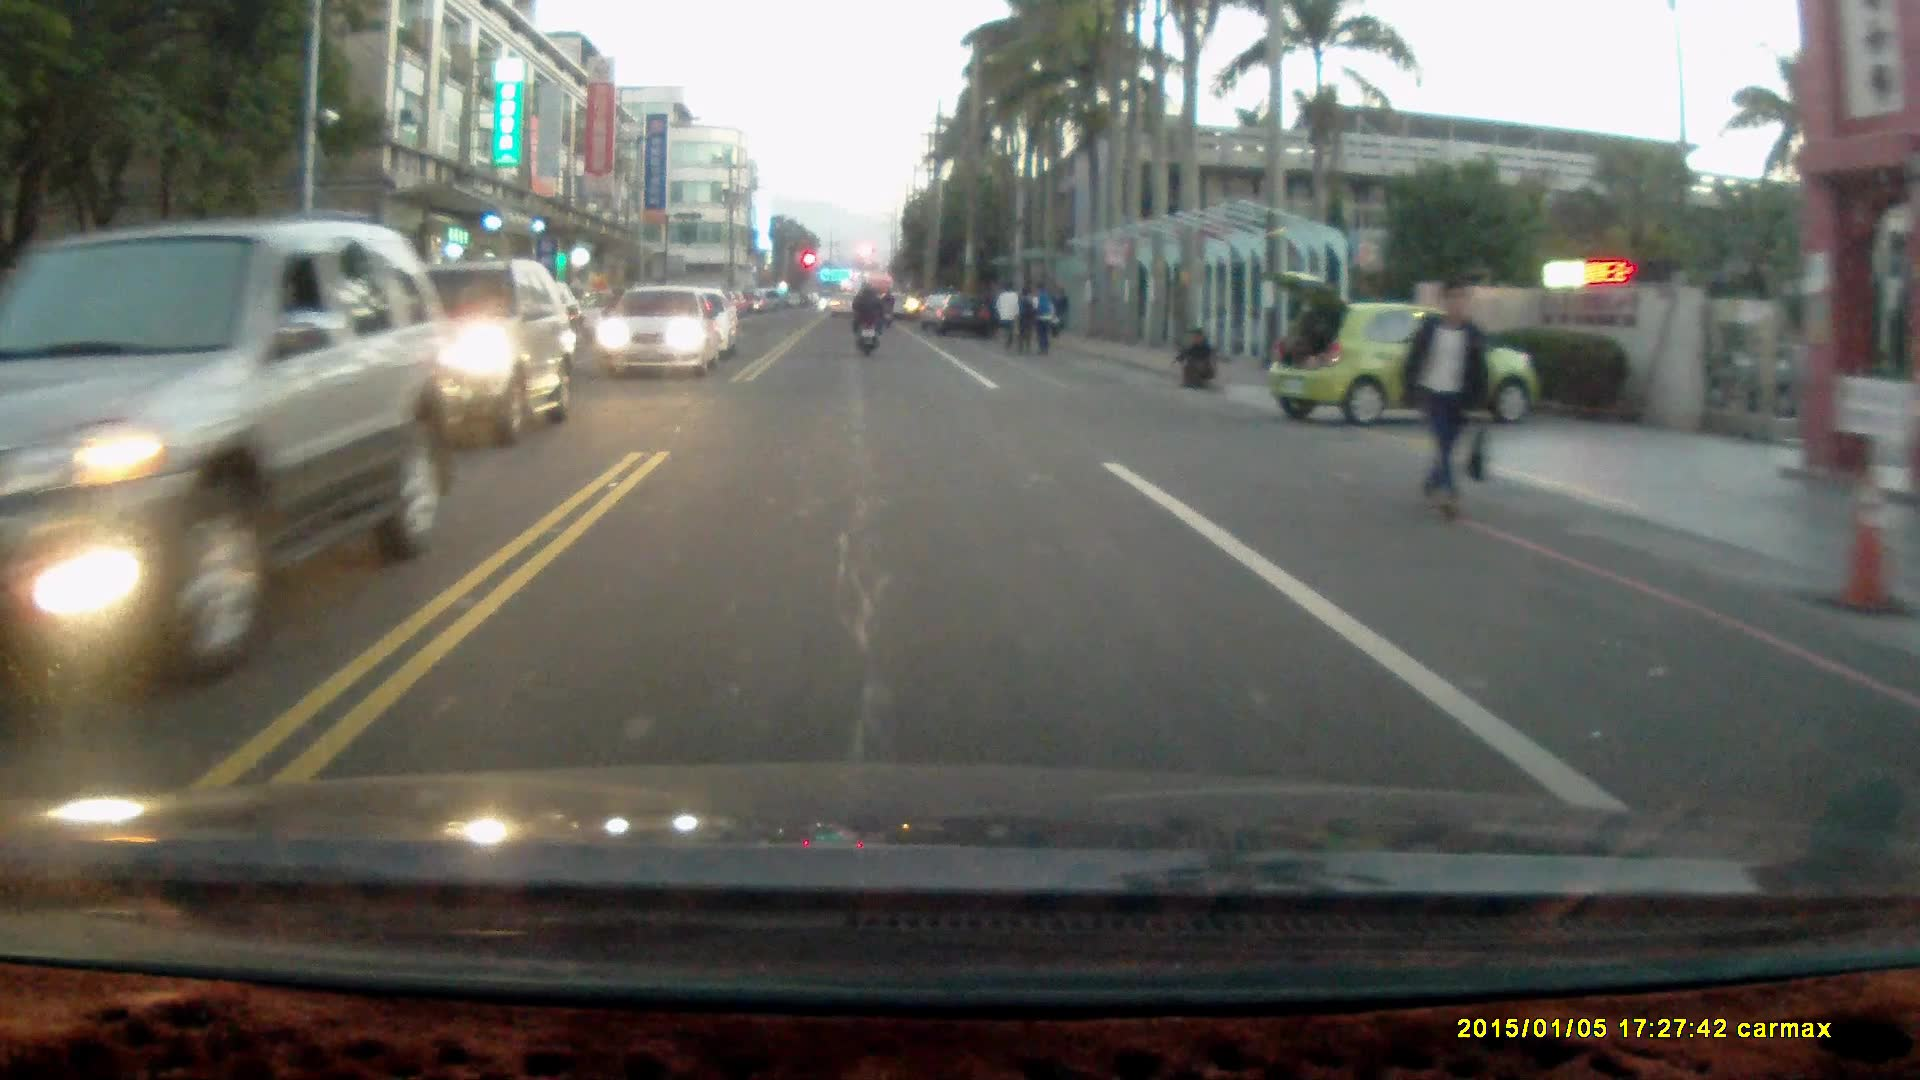pedestrian: (1395, 276, 1493, 520), (1176, 324, 1219, 389), (1028, 279, 1059, 355), (997, 280, 1022, 358), (1013, 285, 1038, 355)
rider: (848, 278, 885, 353)
vehicle: (1, 216, 460, 697), (328, 256, 579, 450), (1264, 265, 1527, 425), (598, 282, 718, 376), (937, 288, 996, 337)
